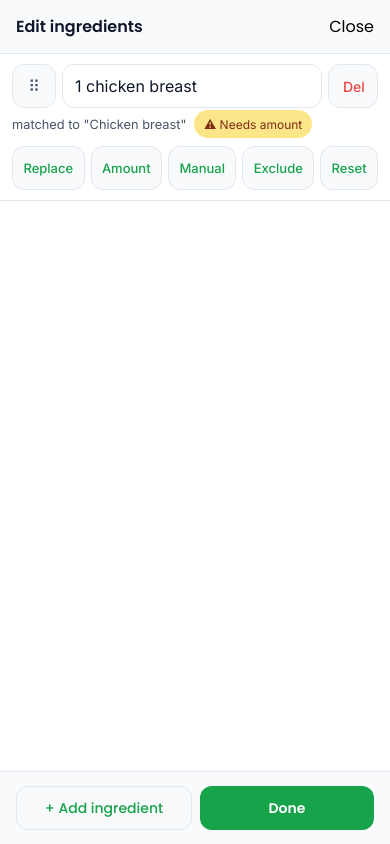
Test: IngredientsEditor nutritionItems wiring › shows a needs-amount badge and opens the amount panel
Click the button "⚠ Needs amount". click: (253, 124)
box: [194,110,312,138]
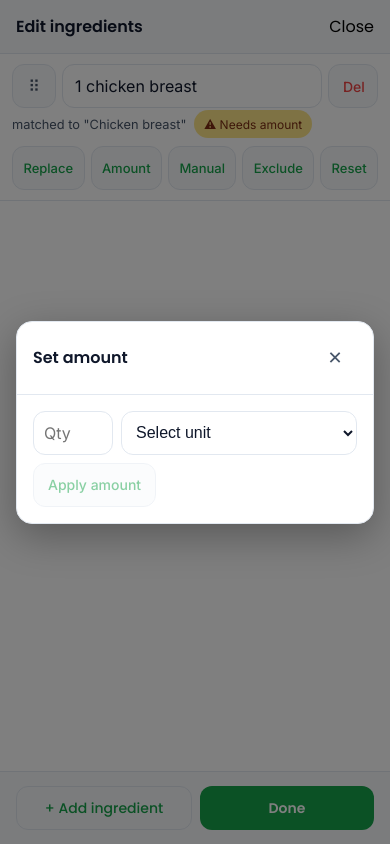
Result: the field named "Quantity" is shown at [33,410,113,454]
